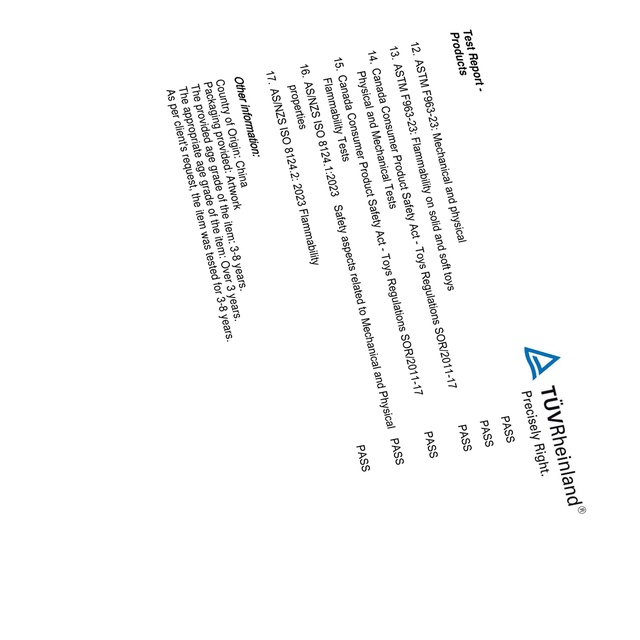tuv_rheinland: (523, 346, 588, 518)
